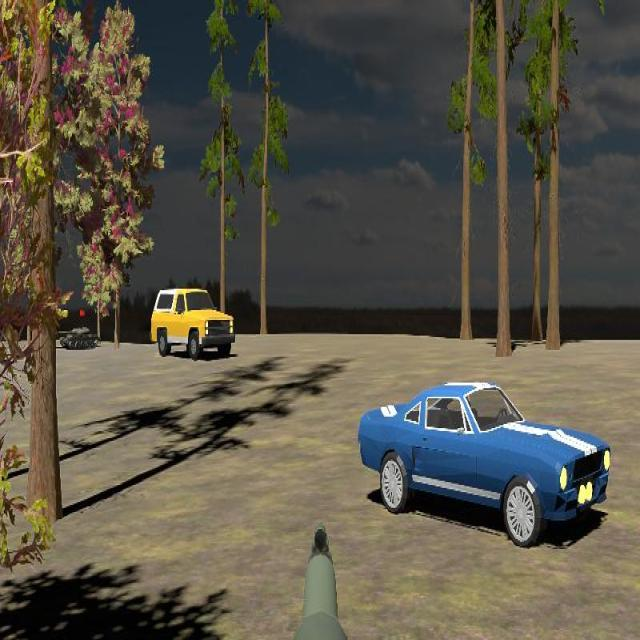Tank: (56, 324, 100, 351)
car: (356, 382, 611, 548), (151, 287, 235, 361)
